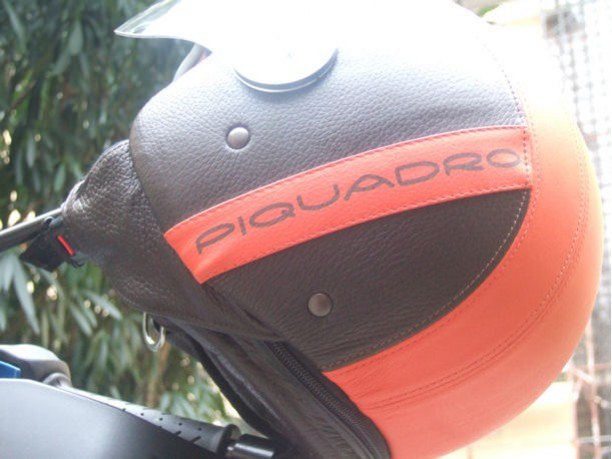helmet: (142, 3, 603, 430)
